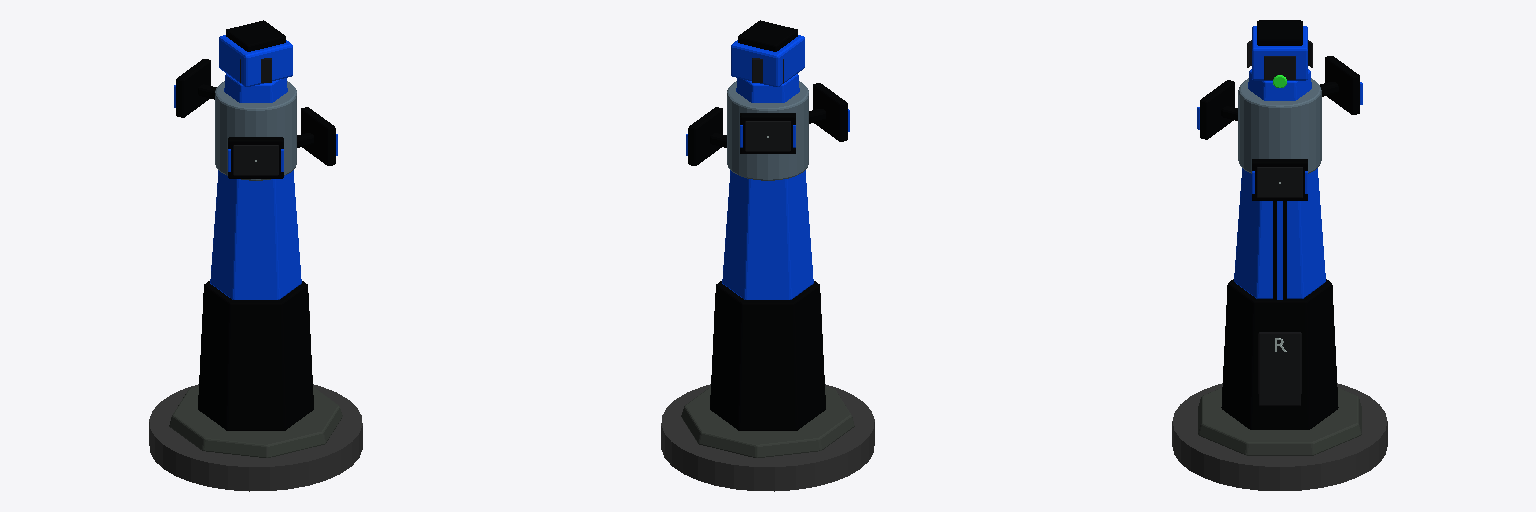
The robot description file, URDF, robot "arena2027_blue_outpost":
<?xml version='1.0' encoding='utf-8'?>
<robot name="arena2027_blue_outpost"><link name="base_link"><visual name="plinth"><origin xyz="0 0 -0.05" /><geometry><cylinder radius="0.4" length="0.1" /></geometry><material name="plinth_gray"><color rgba="0.25 0.25 0.25 1" /></material></visual><collision name="plinth"><origin xyz="0 0 -0.05" /><geometry><cylinder radius="0.4" length="0.1" /></geometry></collision><visual name="TowerLight"><geometry><mesh filename="part_000.obj" /></geometry><material name="material_0"><color rgba="0.04 0.32 0.95 1" /></material></visual><collision name="collision_0"><geometry><mesh filename="part_000.obj" /></geometry></collision><visual name="SkirtPanel"><geometry><mesh filename="part_001.obj" /></geometry><material name="material_1"><color rgba="0.12156862745098039 0.12549019607843137 0.13333333333333333 1.0" /></material></visual><collision name="collision_1"><geometry><mesh filename="part_001.obj" /></geometry></collision><visual name="SmallArmor.002"><geometry><mesh filename="part_002.obj" /></geometry><material name="material_2"><color rgba="0.12156862745098039 0.12549019607843137 0.13333333333333333 1.0" /></material></visual><collision name="collision_2"><geometry><mesh filename="part_002.obj" /></geometry></collision><visual name="SmallArmor.001"><geometry><mesh filename="part_003.obj" /></geometry><material name="material_3"><color rgba="0.12156862745098039 0.12549019607843137 0.13333333333333333 1.0" /></material></visual><collision name="collision_3"><geometry><mesh filename="part_003.obj" /></geometry></collision><visual name="SmallArmor"><geometry><mesh filename="part_004.obj" /></geometry><material name="material_4"><color rgba="0.12156862745098039 0.12549019607843137 0.13333333333333333 1.0" /></material></visual><collision name="collision_4"><geometry><mesh filename="part_004.obj" /></geometry></collision><visual name="OutpostPedestal"><geometry><mesh filename="part_005.obj" /></geometry><material name="material_5"><color rgba="0.25098039215686274 0.27058823529411763 0.25098039215686274 1.0" /></material></visual><collision name="collision_5"><geometry><mesh filename="part_005.obj" /></geometry></collision><visual name="Outpost_TeamPrimaryShell.001"><geometry><mesh filename="part_006.obj" /></geometry><material name="material_6"><color rgba="0.04 0.32 0.95 1" /></material></visual><collision name="collision_6"><geometry><mesh filename="part_006.obj" /></geometry></collision><visual name="Outpost_OutpostGraphite"><geometry><mesh filename="part_007.obj" /></geometry><material name="material_7"><color rgba="0.03529411764705882 0.0392156862745098 0.043137254901960784 1.0" /></material></visual><collision name="collision_7"><geometry><mesh filename="part_007.obj" /></geometry></collision><visual name="Logo"><geometry><mesh filename="part_008.obj" /></geometry><material name="material_8"><color rgba="0.7215686274509804 0.7803921568627451 0.7686274509803922 1.0" /></material></visual><collision name="collision_8"><geometry><mesh filename="part_008.obj" /></geometry></collision><visual name="DartGuideLight"><geometry><mesh filename="part_009.obj" /></geometry><material name="material_9"><color rgba="0.2 1.0 0.25098039215686274 1.0" /></material></visual><collision name="collision_9"><geometry><mesh filename="part_009.obj" /></geometry></collision><visual name="RotorCollar"><geometry><mesh filename="part_010.obj" /></geometry><material name="material_10"><color rgba="0.3803921568627451 0.4588235294117647 0.5098039215686274 1.0" /></material></visual><collision name="collision_10"><geometry><mesh filename="part_010.obj" /></geometry></collision><visual name="WeakSpot.002"><geometry><mesh filename="part_011.obj" /></geometry><material name="material_11"><color rgba="0.7215686274509804 0.7803921568627451 0.7686274509803922 1.0" /></material></visual><collision name="collision_11"><geometry><mesh filename="part_011.obj" /></geometry></collision><visual name="OutpostArmor_2_TeamGlow"><geometry><mesh filename="part_012.obj" /></geometry><material name="material_12"><color rgba="0.04 0.32 0.95 1" /></material></visual><collision name="collision_12"><geometry><mesh filename="part_012.obj" /></geometry></collision><visual name="ArmorPanel.002"><geometry><mesh filename="part_013.obj" /></geometry><material name="material_13"><color rgba="0.12156862745098039 0.12549019607843137 0.13333333333333333 1.0" /></material></visual><collision name="collision_13"><geometry><mesh filename="part_013.obj" /></geometry></collision><visual name="ArmorFrame.002"><geometry><mesh filename="part_014.obj" /></geometry><material name="material_14"><color rgba="0.03529411764705882 0.0392156862745098 0.043137254901960784 1.0" /></material></visual><collision name="collision_14"><geometry><mesh filename="part_014.obj" /></geometry></collision><visual name="WeakSpot.001"><geometry><mesh filename="part_015.obj" /></geometry><material name="material_15"><color rgba="0.7215686274509804 0.7803921568627451 0.7686274509803922 1.0" /></material></visual><collision name="collision_15"><geometry><mesh filename="part_015.obj" /></geometry></collision><visual name="OutpostArmor_1_TeamGlow"><geometry><mesh filename="part_016.obj" /></geometry><material name="material_16"><color rgba="0.04 0.32 0.95 1" /></material></visual><collision name="collision_16"><geometry><mesh filename="part_016.obj" /></geometry></collision><visual name="ArmorPanel.001"><geometry><mesh filename="part_017.obj" /></geometry><material name="material_17"><color rgba="0.12156862745098039 0.12549019607843137 0.13333333333333333 1.0" /></material></visual><collision name="collision_17"><geometry><mesh filename="part_017.obj" /></geometry></collision><visual name="ArmorFrame.001"><geometry><mesh filename="part_018.obj" /></geometry><material name="material_18"><color rgba="0.03529411764705882 0.0392156862745098 0.043137254901960784 1.0" /></material></visual><collision name="collision_18"><geometry><mesh filename="part_018.obj" /></geometry></collision><visual name="WeakSpot"><geometry><mesh filename="part_019.obj" /></geometry><material name="material_19"><color rgba="0.7215686274509804 0.7803921568627451 0.7686274509803922 1.0" /></material></visual><collision name="collision_19"><geometry><mesh filename="part_019.obj" /></geometry></collision><visual name="OutpostArmor_0_TeamGlow"><geometry><mesh filename="part_020.obj" /></geometry><material name="material_20"><color rgba="0.04 0.32 0.95 1" /></material></visual><collision name="collision_20"><geometry><mesh filename="part_020.obj" /></geometry></collision><visual name="ArmorPanel"><geometry><mesh filename="part_021.obj" /></geometry><material name="material_21"><color rgba="0.12156862745098039 0.12549019607843137 0.13333333333333333 1.0" /></material></visual><collision name="collision_21"><geometry><mesh filename="part_021.obj" /></geometry></collision><visual name="ArmorFrame"><geometry><mesh filename="part_022.obj" /></geometry><material name="material_22"><color rgba="0.03529411764705882 0.0392156862745098 0.043137254901960784 1.0" /></material></visual><collision name="collision_22"><geometry><mesh filename="part_022.obj" /></geometry></collision><visual name="ArmorRotor_OutpostGraphite"><geometry><mesh filename="part_023.obj" /></geometry><material name="material_23"><color rgba="0.03529411764705882 0.0392156862745098 0.043137254901960784 1.0" /></material></visual><collision name="collision_23"><geometry><mesh filename="part_023.obj" /></geometry></collision></link></robot>

--- Render facts (derived) ---
Views: 3 orthographic renders of the robot side by side, from view 1: azimuth 30°, elevation 25°; view 2: azimuth 150°, elevation 25°; view 3: azimuth 270°, elevation 25°.
Model arena2027_blue_outpost with 1 links and 0 joints (none), rooted at base_link, posed all joints at 0.
Links seen in each view (by area): view 1: base_link; view 2: base_link; view 3: base_link.
Link boxes in pixels (bbox=[...]): base_link: bbox=[149, 20, 362, 491]; base_link: bbox=[661, 20, 874, 491]; base_link: bbox=[1172, 20, 1387, 490].
Size in the robot's own frame: 0.8 by 0.8 by 1.71 metres.
Meshes: 24 distinct files referenced, 24 mesh visuals loaded (24 OBJ).
